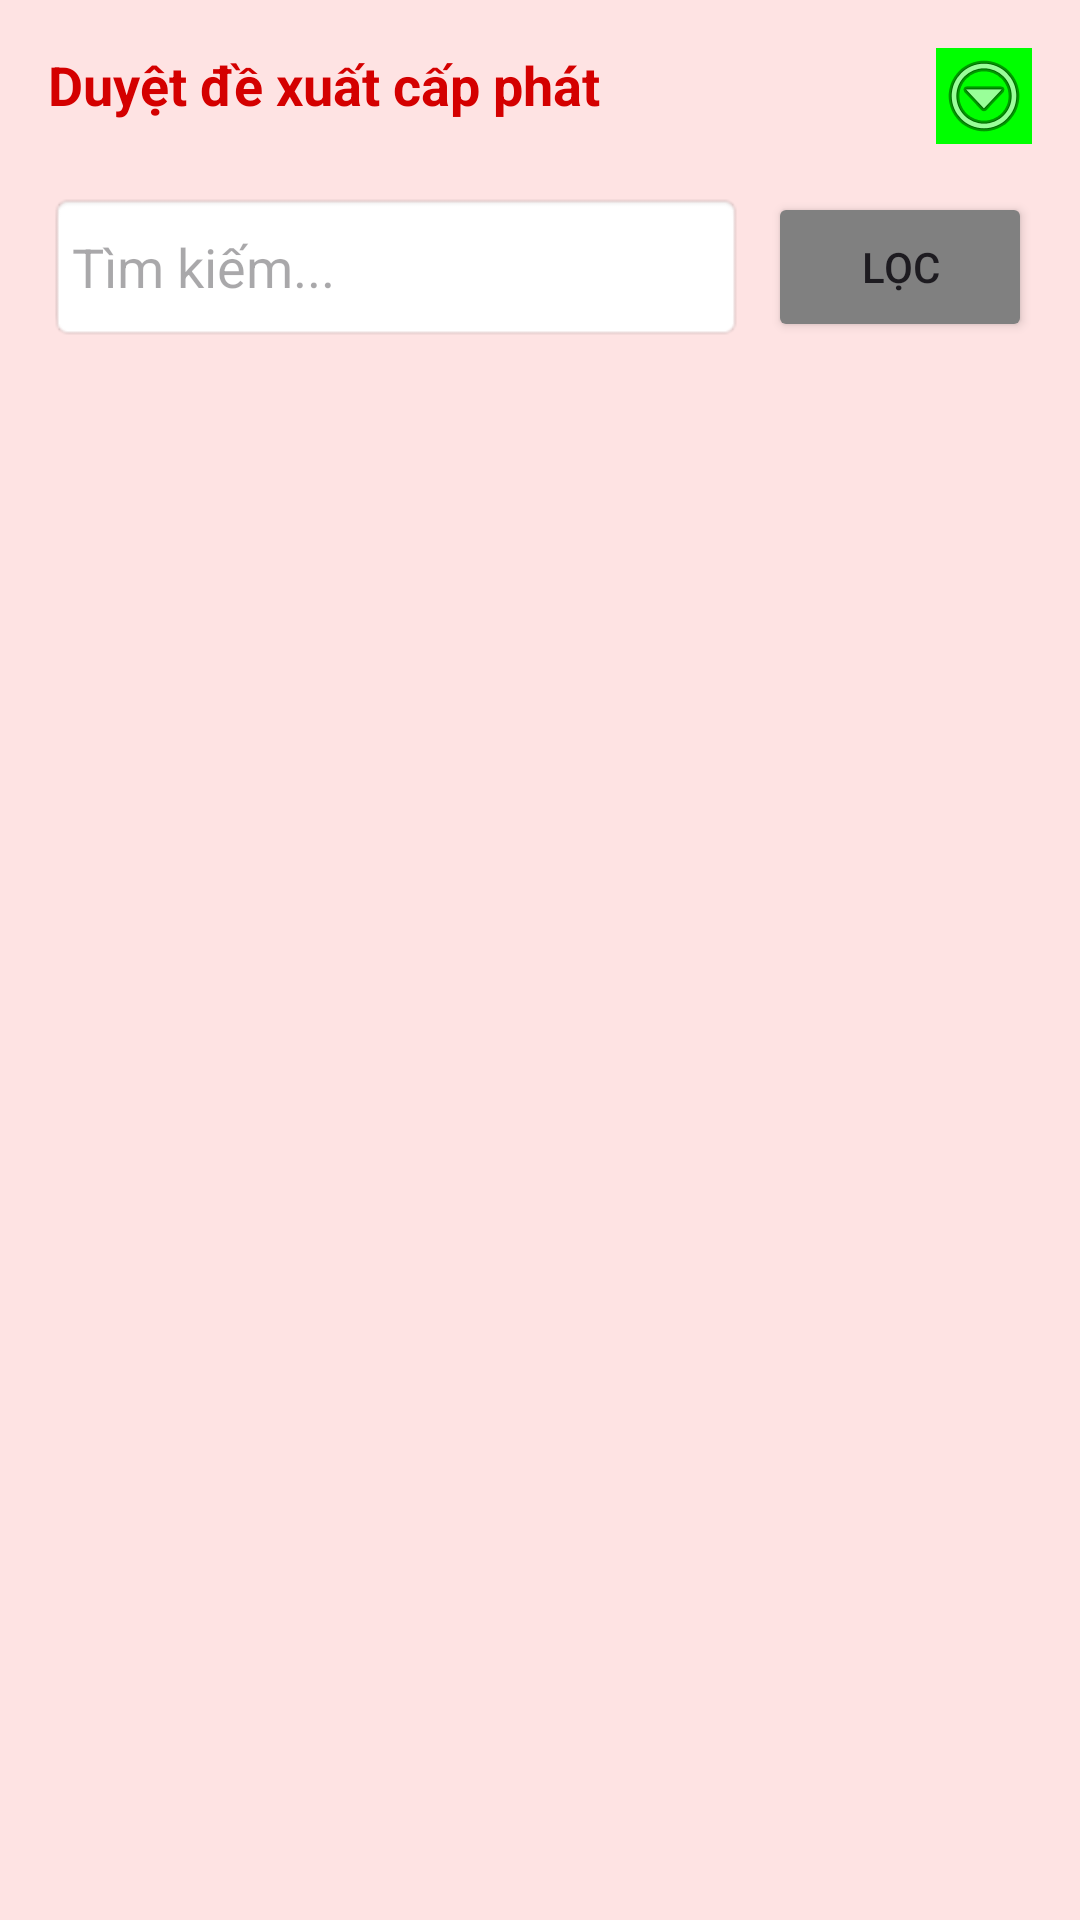

Icons on this 1080x1920 Android screen, each with the point to tap as (x=x, y=y):
more: (x=984, y=96)
